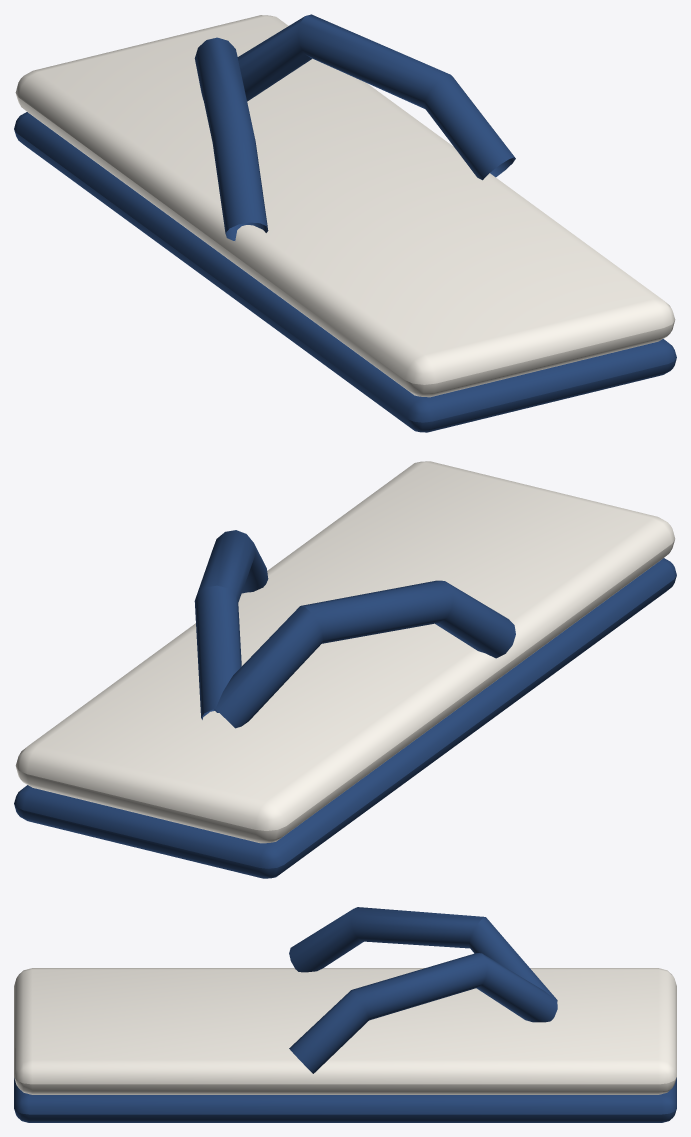
Rendered from sendal_jepit.glb.
3 views of the same model, one above another, from view 1: azimuth 30°, elevation 25°; view 2: azimuth 150°, elevation 25°; view 3: azimuth 270°, elevation 25° (orthographic). The views are drawn at different scales.
Parts seen in each view (by area): view 1: sendal_jepit; view 2: sendal_jepit; view 3: sendal_jepit.
Part boxes in pixels (bbox=[...]): sendal_jepit: bbox=[14, 14, 676, 432]; sendal_jepit: bbox=[14, 461, 676, 878]; sendal_jepit: bbox=[14, 907, 676, 1122].
Size of the model in its own units: 0.4058 by 0.2311 by 1.
